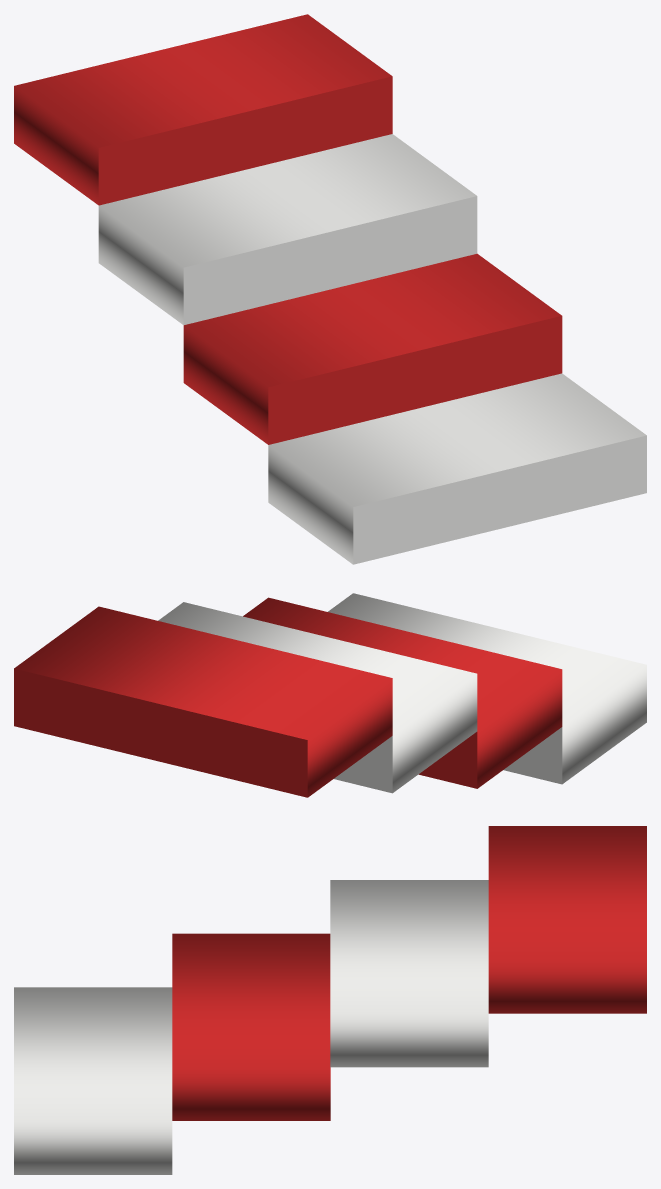
3 views of the same model, one above another, from view 1: azimuth 30°, elevation 25°; view 2: azimuth 150°, elevation 25°; view 3: azimuth 270°, elevation 25° (orthographic). The views are drawn at different scales.
Visible parts, largest first — view 1: K16_b1000, K16_b2000, K16_b00, K16_b3000; view 2: K16_b00, K16_b1000, K16_b2000, K16_b3000; view 3: K16_b00, K16_b1000, K16_b3000, K16_b2000.
Boxes of the visible parts, bbox=[...] form: K16_b1000: bbox=[98, 134, 477, 325]; K16_b2000: bbox=[183, 253, 562, 444]; K16_b00: bbox=[14, 14, 392, 205]; K16_b3000: bbox=[268, 373, 646, 564]; K16_b00: bbox=[14, 606, 392, 797]; K16_b1000: bbox=[158, 602, 477, 793]; K16_b2000: bbox=[243, 597, 562, 788]; K16_b3000: bbox=[328, 593, 646, 784]; K16_b00: bbox=[488, 826, 646, 1013]; K16_b1000: bbox=[330, 880, 488, 1067]; K16_b3000: bbox=[14, 987, 172, 1174]; K16_b2000: bbox=[172, 933, 330, 1120].
Bounding box in the file's own units: 0.8 × 0.6 × 1.6.
